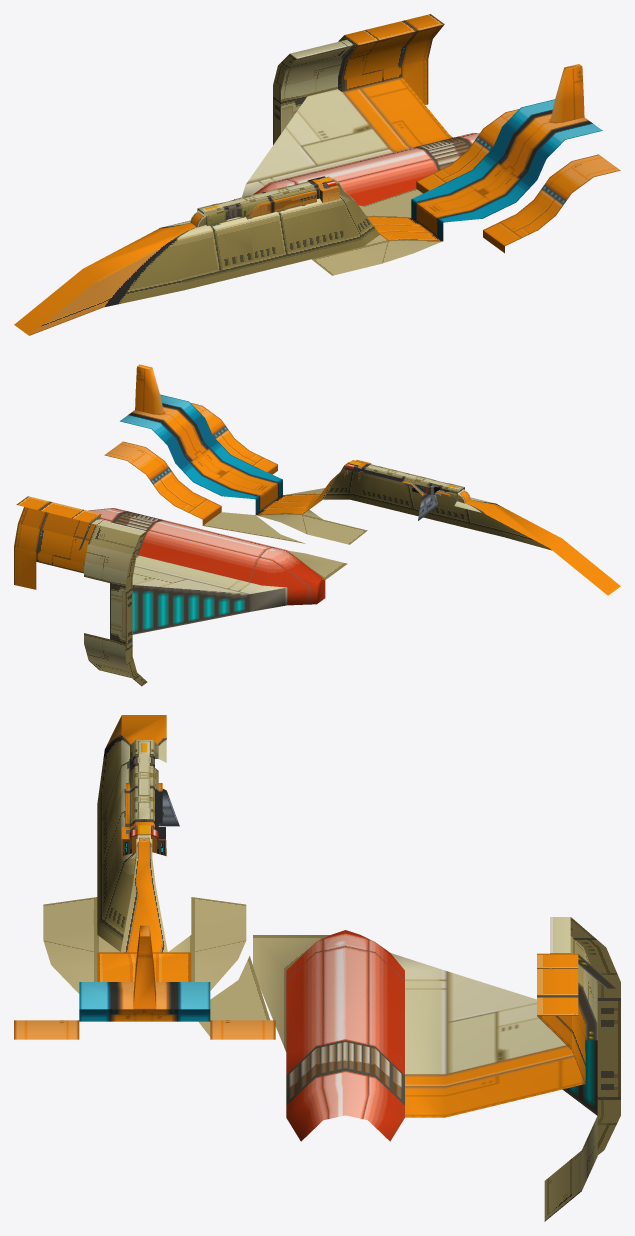
The model's file is unknown ship.fbx.
The picture shows the model from 3 angles, top to bottom: view 1: azimuth 30°, elevation 25°; view 2: azimuth 150°, elevation 25°; view 3: azimuth 270°, elevation 25°; orthographic projection. The views are drawn at different scales.
Parts seen in each view (by area): view 1: bsf_base; view 2: bsf_base; view 3: bsf_base.
Part boxes in pixels (x1,y1,x2,y2): bsf_base: (14,14,620,335); bsf_base: (14,364,620,686); bsf_base: (14,715,620,1221).
Size of the model in its own units: 826 by 335 by 526.
